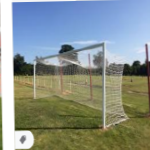goals: (32, 41, 130, 131)
